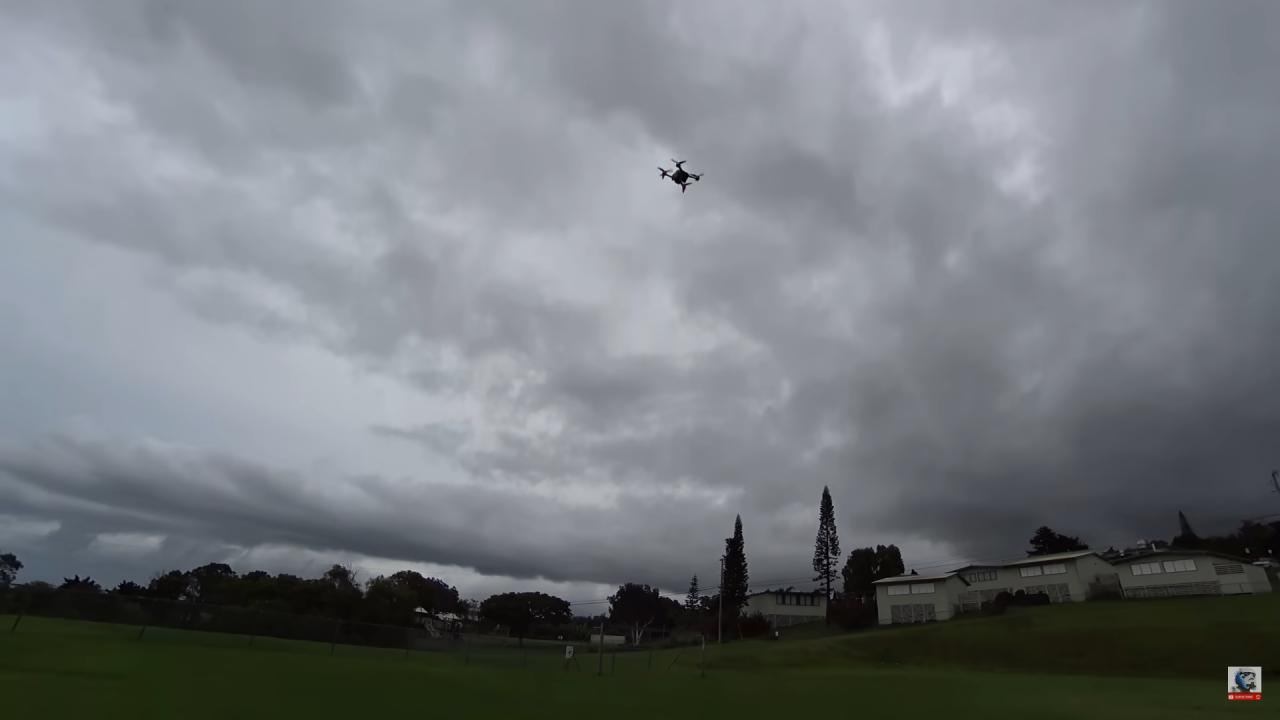Drone: (642, 144, 717, 205)
